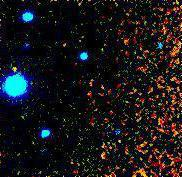star: (0, 56, 27, 86)
